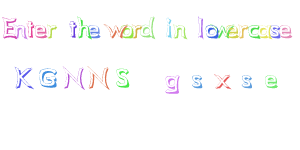E: (1, 14, 20, 40)
G: (34, 61, 60, 91)
K: (9, 61, 37, 92)
N: (85, 62, 113, 93), (61, 62, 87, 93)
S: (111, 62, 137, 94)
a: (257, 22, 272, 41)
c: (247, 23, 261, 40)
d: (139, 14, 158, 39)
e: (260, 70, 285, 94), (87, 21, 101, 43), (277, 23, 294, 40), (225, 21, 239, 41), (34, 21, 47, 39)
g: (160, 69, 186, 99)
h: (77, 13, 91, 41)
i: (162, 16, 176, 42)
l: (193, 11, 207, 41)
n: (172, 20, 190, 42), (12, 21, 28, 39)
o: (120, 19, 135, 42), (204, 22, 221, 41)
r: (129, 19, 144, 39), (236, 22, 249, 41), (45, 21, 58, 39)
s: (235, 70, 259, 94), (186, 69, 208, 92), (268, 22, 282, 39)
t: (24, 15, 37, 40), (67, 19, 79, 41)
w: (103, 19, 125, 40), (213, 22, 231, 39)
x: (210, 70, 235, 93)
